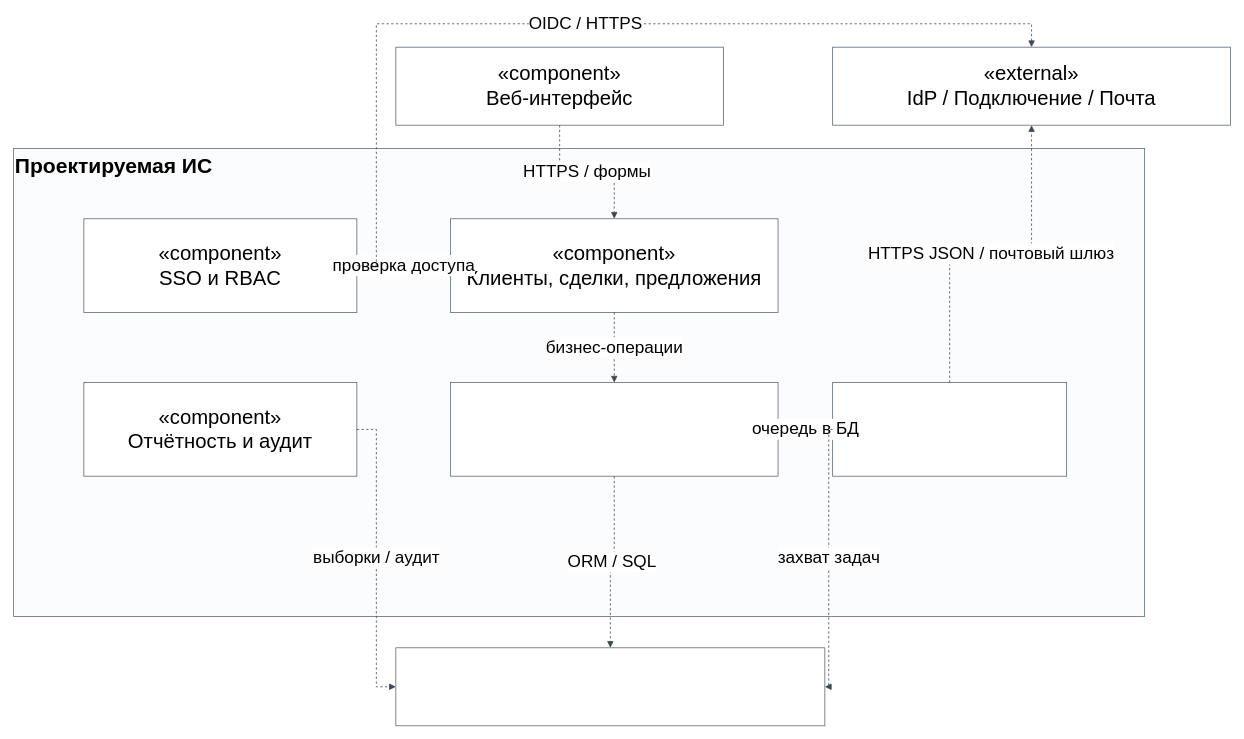
The diagram is 1244 pixels wide and 739 high, and some of its shapes have lost their labels. Here are the shapes that lost their labels. From the top down, the centre of each, then its label:
At pixel 614 429: "«component» Договоры, заявки, продления".
At pixel 949 429: "«component» Фоновый worker".
At pixel 610 686: "«database» PostgreSQL Бизнес-данные и очередь".
